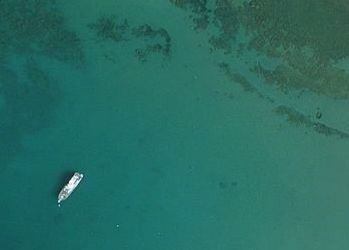ship: (55, 169, 87, 209)
